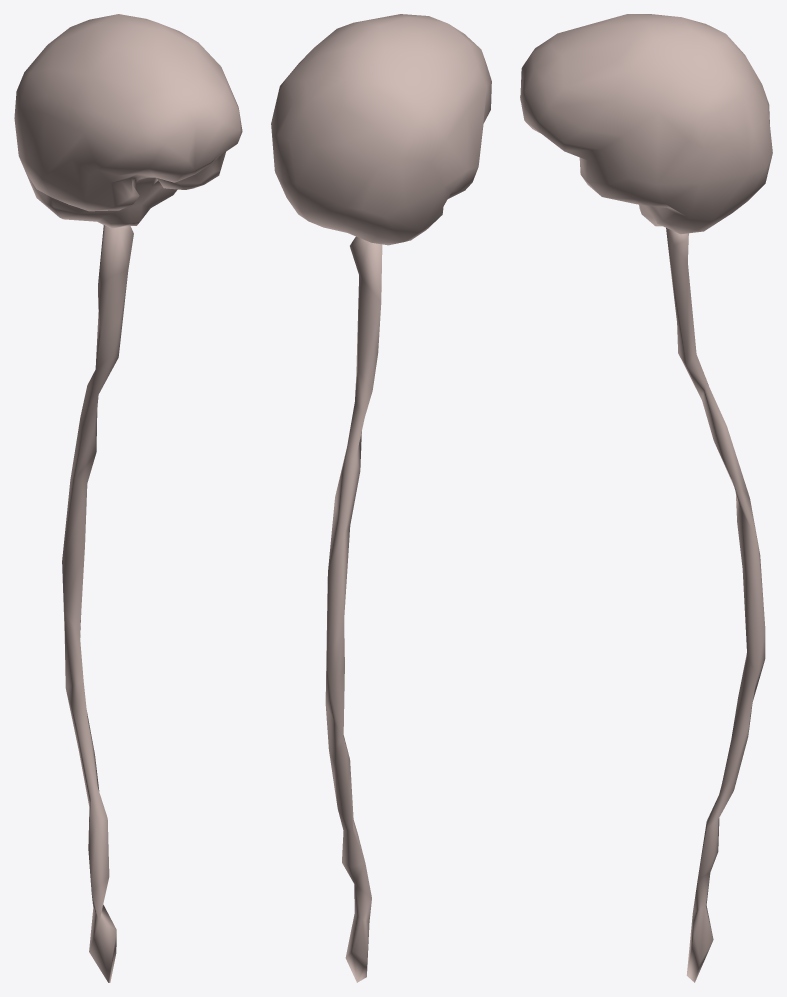
Rendered from pediatric_adolescent_female.nervous.LOD2.glb.
The picture shows the model from 3 angles, left to right: view 1: azimuth 30°, elevation 25°; view 2: azimuth 150°, elevation 25°; view 3: azimuth 270°, elevation 25°; orthographic projection. The views are drawn at different scales.
Visible parts, largest first — view 1: PEDIATRIC.ADOLESCENT.FEMALE.NERVOUS.BRAIN, PEDIATRIC.ADOLESCENT.FEMALE.NERVOUS.SPINAL_CORD; view 2: PEDIATRIC.ADOLESCENT.FEMALE.NERVOUS.BRAIN, PEDIATRIC.ADOLESCENT.FEMALE.NERVOUS.SPINAL_CORD; view 3: PEDIATRIC.ADOLESCENT.FEMALE.NERVOUS.BRAIN, PEDIATRIC.ADOLESCENT.FEMALE.NERVOUS.SPINAL_CORD.
Part boxes in pixels (left/top/right/bottom): PEDIATRIC.ADOLESCENT.FEMALE.NERVOUS.BRAIN: left=14, top=14, right=242, bottom=228; PEDIATRIC.ADOLESCENT.FEMALE.NERVOUS.SPINAL_CORD: left=62, top=225, right=133, bottom=982; PEDIATRIC.ADOLESCENT.FEMALE.NERVOUS.BRAIN: left=271, top=14, right=491, bottom=245; PEDIATRIC.ADOLESCENT.FEMALE.NERVOUS.SPINAL_CORD: left=325, top=236, right=382, bottom=982; PEDIATRIC.ADOLESCENT.FEMALE.NERVOUS.BRAIN: left=520, top=14, right=772, bottom=234; PEDIATRIC.ADOLESCENT.FEMALE.NERVOUS.SPINAL_CORD: left=666, top=228, right=765, bottom=982.
Size of the model in its own units: 0.1316 by 0.6546 by 0.156.
